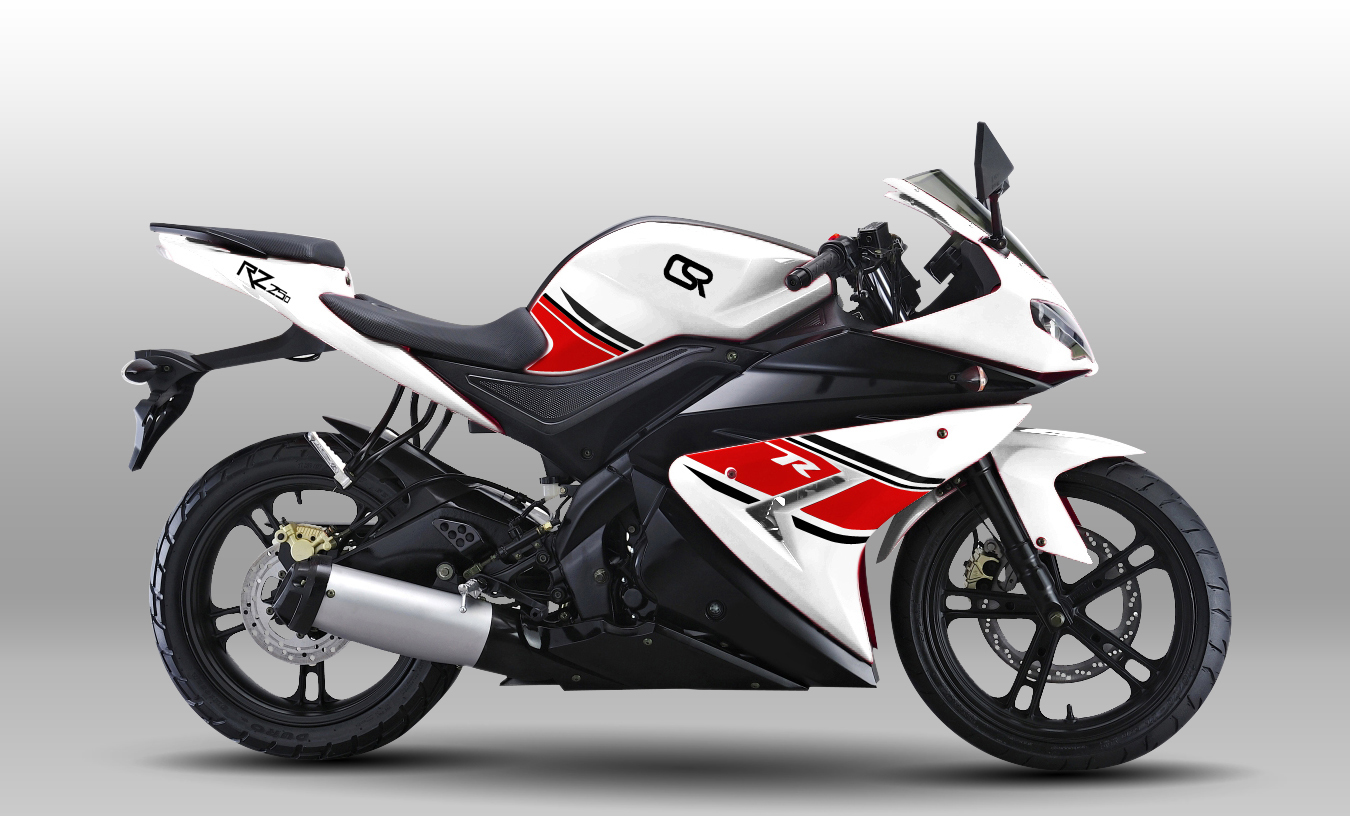motorbike: (112, 151, 1247, 772)
